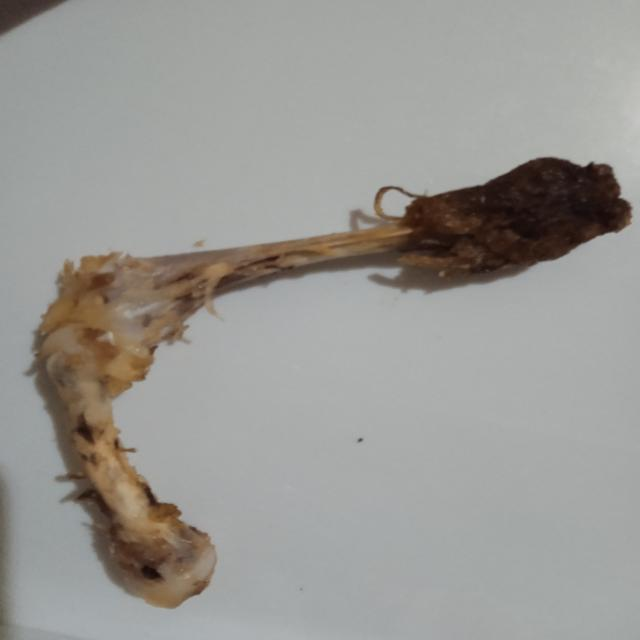bone: (11, 149, 640, 614)
